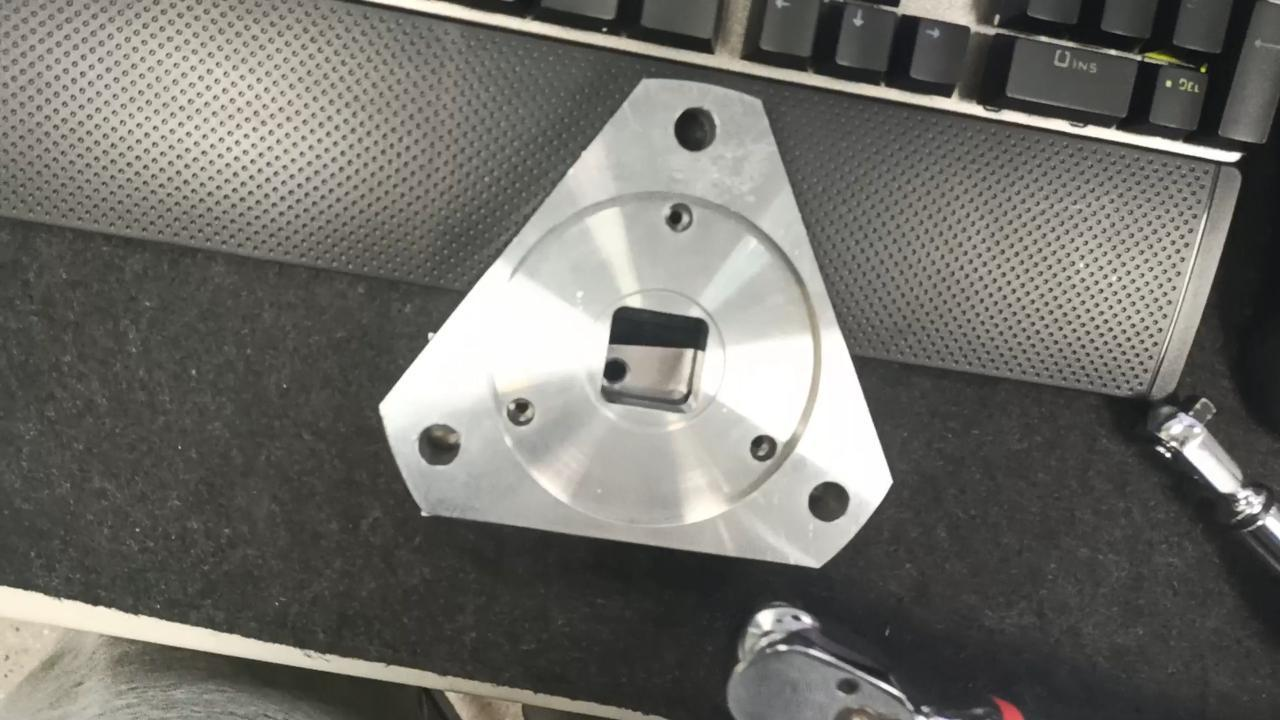Tool: (716, 588, 992, 720), (1136, 388, 1250, 508)
